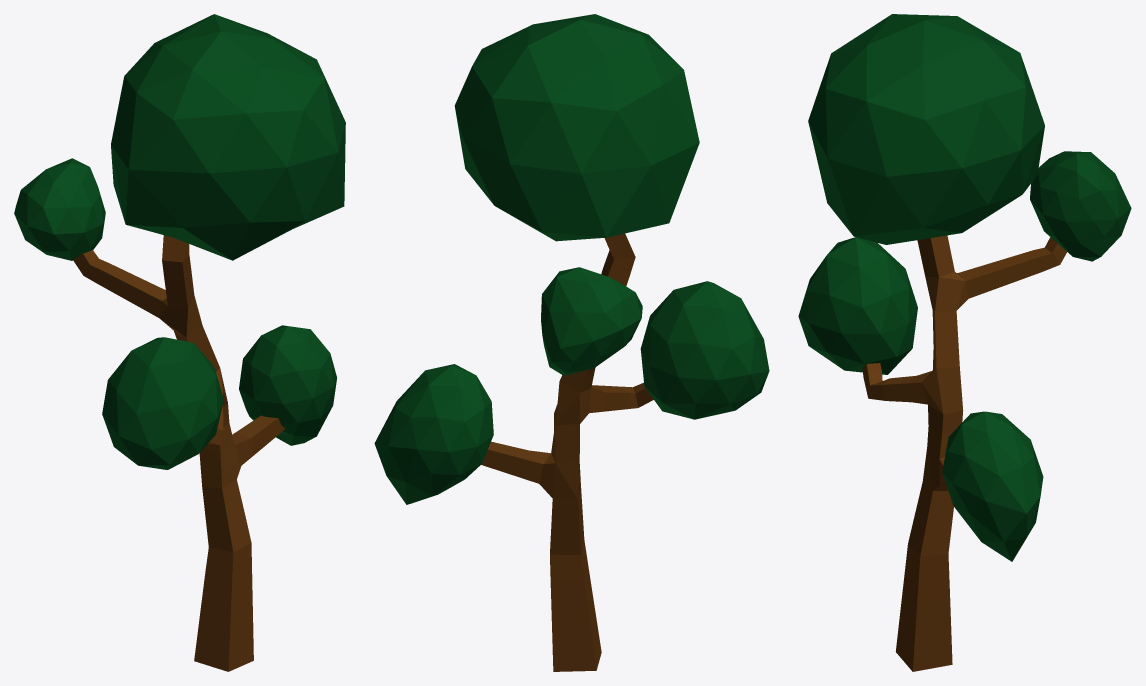
The model's file is SimpleTree.fbx.
3 renders of one model, left to right at view 1: azimuth 30°, elevation 25°; view 2: azimuth 150°, elevation 25°; view 3: azimuth 270°, elevation 25°, orthographic. The views are drawn at different scales.
Parts seen in each view (by area): view 1: LOD0; view 2: LOD0; view 3: LOD0.
Part boxes in pixels (x1=…): LOD0: x1=14, y1=14, x2=345, y2=671; LOD0: x1=374, y1=14, x2=769, y2=671; LOD0: x1=798, y1=14, x2=1131, y2=671.
Size of what is drawn, in the model's own units: 2.92 by 5.98 by 2.83.
